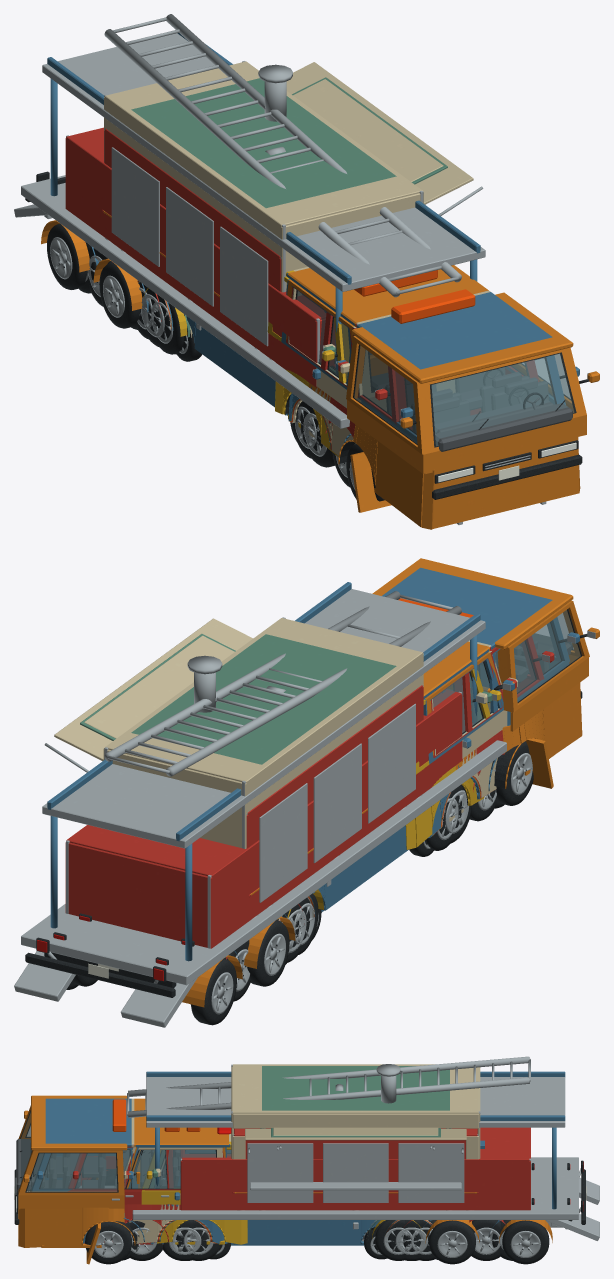
File: vehicle_02.glb
The picture shows the model from 3 angles, top to bottom: view 1: azimuth 30°, elevation 25°; view 2: azimuth 150°, elevation 25°; view 3: azimuth 270°, elevation 25°; orthographic projection. The views are drawn at different scales.
Parts seen in each view (by area): view 1: vehicle_042_Body_Paint_LOD0, vehicle_056_Body_Paint_LOD0, vehicle_041_Body_Metal_LOD0, vehicle_057_Body_Paint_LOD0, vehicle_046_Body_Metal_LOD0, vehicle_047_Body_Paint_LOD0, vehicle_041_Body_Paint_LOD0, vehicle_042_Body_Glass_LOD0, vehicle_047_Body_Metal_LOD0, vehicle_042_Body_Metal_LOD0, vehicle_041_Body_Glass_LOD0, vehicle_052_Body_Paint_LOD0 (+17 smaller); view 2: vehicle_047_Body_Paint_LOD0, vehicle_056_Body_Paint_LOD0, vehicle_041_Body_Metal_LOD0, vehicle_042_Body_Metal_LOD0, vehicle_057_Body_Paint_LOD0, vehicle_046_Body_Metal_LOD0, vehicle_041_Body_Paint_LOD0, vehicle_042_Body_Paint_LOD0, vehicle_047_Body_Metal_LOD0, vehicle_044_Body_Paint_LOD0, vehicle_046_Body_Paint_LOD0, vehicle_042_Body_Glass_LOD0 (+14 smaller); view 3: vehicle_047_Body_Paint_LOD0, vehicle_046_Body_Metal_LOD0, vehicle_056_Body_Paint_LOD0, vehicle_042_Body_Paint_LOD0, vehicle_042_Body_Metal_LOD0, vehicle_041_Body_Metal_LOD0, vehicle_041_Body_Paint_LOD0, vehicle_057_Body_Paint_LOD0, vehicle_047_Body_Metal_LOD0, vehicle_042_Body_Glass_LOD0, vehicle_049_Body_Paint_LOD0, vehicle_052_Body_Paint_LOD0 (+33 smaller).
Boxes of the visible parts, bbox=[...] form: vehicle_042_Body_Paint_LOD0: bbox=[41, 220, 599, 529]; vehicle_056_Body_Paint_LOD0: bbox=[104, 61, 490, 455]; vehicle_041_Body_Metal_LOD0: bbox=[42, 33, 485, 414]; vehicle_057_Body_Paint_LOD0: bbox=[131, 77, 447, 373]; vehicle_046_Body_Metal_LOD0: bbox=[104, 128, 281, 362]; vehicle_047_Body_Paint_LOD0: bbox=[65, 127, 538, 437]; vehicle_041_Body_Paint_LOD0: bbox=[47, 33, 579, 443]; vehicle_042_Body_Glass_LOD0: bbox=[354, 346, 574, 446]; vehicle_047_Body_Metal_LOD0: bbox=[66, 14, 461, 396]; vehicle_042_Body_Metal_LOD0: bbox=[14, 175, 588, 524]; vehicle_041_Body_Glass_LOD0: bbox=[395, 358, 554, 433]; vehicle_052_Body_Paint_LOD0: bbox=[103, 210, 488, 512]; vehicle_047_Body_Paint_LOD0: bbox=[65, 635, 554, 959]; vehicle_056_Body_Paint_LOD0: bbox=[54, 618, 517, 920]; vehicle_041_Body_Metal_LOD0: bbox=[42, 589, 575, 848]; vehicle_042_Body_Metal_LOD0: bbox=[14, 631, 595, 1027]; vehicle_057_Body_Paint_LOD0: bbox=[80, 634, 492, 805]; vehicle_046_Body_Metal_LOD0: bbox=[246, 685, 423, 919]; vehicle_041_Body_Paint_LOD0: bbox=[47, 567, 579, 962]; vehicle_042_Body_Paint_LOD0: bbox=[182, 558, 599, 1007]; vehicle_047_Body_Metal_LOD0: bbox=[66, 591, 549, 948]; vehicle_044_Body_Paint_LOD0: bbox=[84, 635, 487, 738]; vehicle_046_Body_Paint_LOD0: bbox=[246, 646, 516, 920]; vehicle_042_Body_Glass_LOD0: bbox=[514, 610, 580, 701]; vehicle_047_Body_Paint_LOD0: bbox=[68, 1127, 530, 1244]; vehicle_046_Body_Metal_LOD0: bbox=[232, 1134, 478, 1210]; vehicle_056_Body_Paint_LOD0: bbox=[123, 1064, 484, 1243]; vehicle_042_Body_Paint_LOD0: bbox=[18, 1095, 552, 1247]; vehicle_042_Body_Metal_LOD0: bbox=[15, 1157, 599, 1240]; vehicle_041_Body_Metal_LOD0: bbox=[29, 1077, 565, 1226]; vehicle_041_Body_Paint_LOD0: bbox=[32, 1071, 565, 1243]; vehicle_057_Body_Paint_LOD0: bbox=[150, 1066, 450, 1242]; vehicle_047_Body_Metal_LOD0: bbox=[78, 1056, 530, 1197]; vehicle_042_Body_Glass_LOD0: bbox=[19, 1111, 117, 1191]; vehicle_049_Body_Paint_LOD0: bbox=[165, 1150, 380, 1245]; vehicle_052_Body_Paint_LOD0: bbox=[86, 1098, 476, 1264].
Size of what is drawn, in the model's own units: 3.54 by 3.66 by 10.71.
7 materials, 5 textured.
